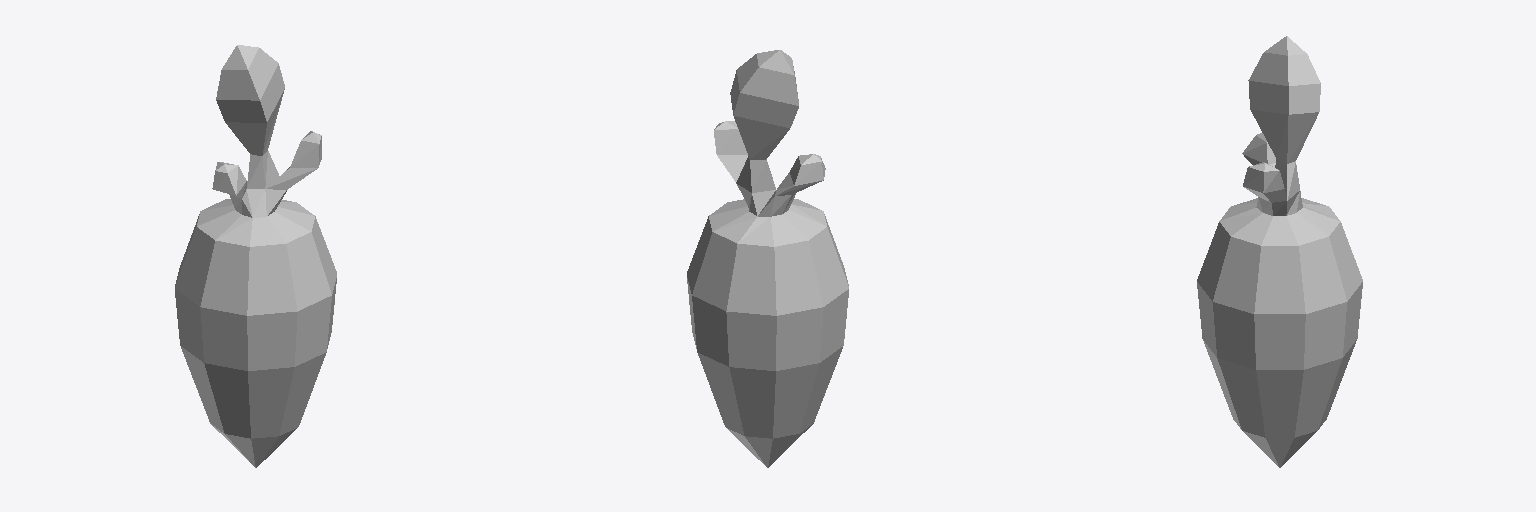
Rendered from carrot.obj.
3 views of the same model, side by side, from view 1: azimuth 30°, elevation 25°; view 2: azimuth 150°, elevation 25°; view 3: azimuth 270°, elevation 25° (orthographic).
Visible parts, largest first — view 1: Carrot_Cylinder; view 2: Carrot_Cylinder; view 3: Carrot_Cylinder.
Boxes of the visible parts, x1,y1,x2,y2 form: Carrot_Cylinder: [175, 45, 336, 467]; Carrot_Cylinder: [687, 50, 848, 467]; Carrot_Cylinder: [1197, 36, 1362, 467].
Size of the model in its own units: 2.04 by 6.05 by 2.15.